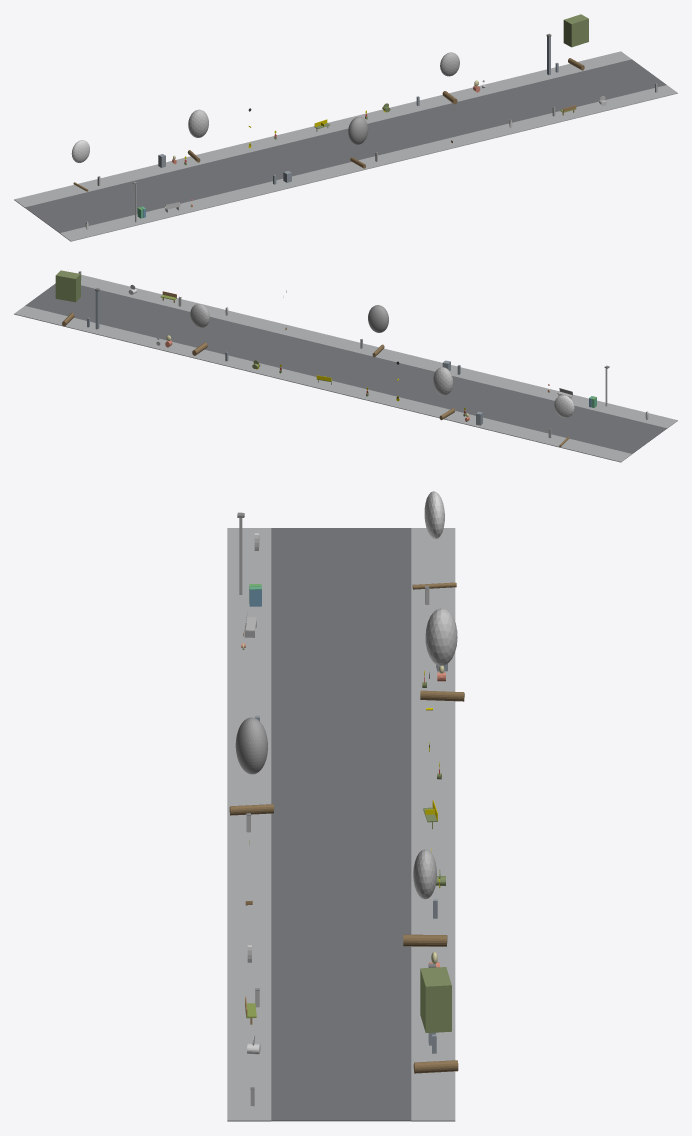
The picture shows the model from 3 angles, top to bottom: view 1: azimuth 30°, elevation 25°; view 2: azimuth 150°, elevation 25°; view 3: azimuth 270°, elevation 25°; orthographic projection. The views are drawn at different scales.
Parts seen in each view (by area): view 1: road_slab, sidewalk_left, sidewalk_right, inst_0016, inst_0013, inst_0014, inst_0015, inst_0012; view 2: road_slab, sidewalk_right, sidewalk_left, inst_0016, inst_0013, inst_0014, inst_0015, inst_0012; view 3: road_slab, sidewalk_left, sidewalk_right, inst_0016, inst_0013, inst_0014, inst_0015, inst_0012.
Boxes of the visible parts, x1,y1,x2,y2 form: road_slab: (25,59,666,233); sidewalk_left: (60,85,677,241); sidewalk_right: (14,51,631,207); inst_0016: (563,14,588,70); inst_0013: (187,109,208,162); inst_0014: (348,117,368,168); inst_0015: (440,52,459,104); inst_0012: (71,140,89,191); road_slab: (25,283,666,453); sidewalk_right: (14,306,631,462); sidewalk_left: (81,274,677,428); inst_0016: (55,270,80,326); inst_0013: (433,367,454,420); inst_0014: (368,305,388,357); inst_0015: (190,304,209,355); inst_0012: (554,395,574,447); road_slab: (271,528,411,1121); sidewalk_left: (227,528,271,1121); sidewalk_right: (411,528,455,1121); inst_0016: (413,967,458,1073); inst_0013: (420,608,464,701); inst_0014: (229,717,273,815); inst_0015: (403,849,447,946); inst_0012: (412,491,456,589).
Bounding box in the file's own units: 80 × 6.08 × 13.53.
